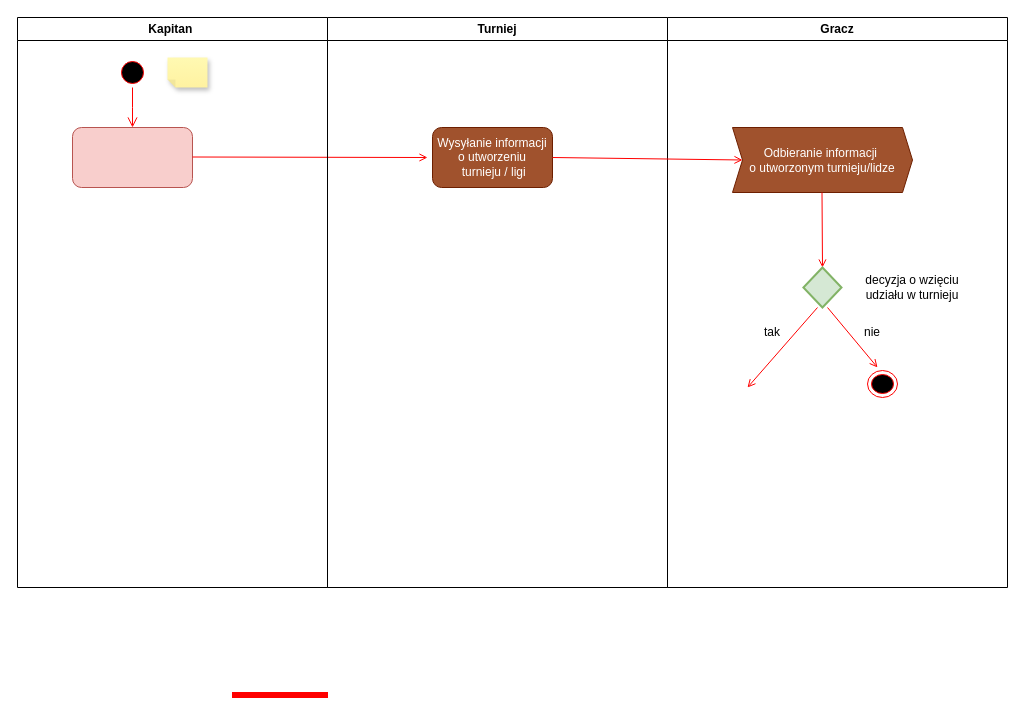
The diagram is 1025 pixels wide and 715 high, and some of its shapes have lost their labels. The shapes that lost their labels are listed below. From the top down, each one's centre as x and y in pixels, then its label:
At [188,73]: "start".
At [132,157]: "Tworzenie nowego turnieju / ligi".
